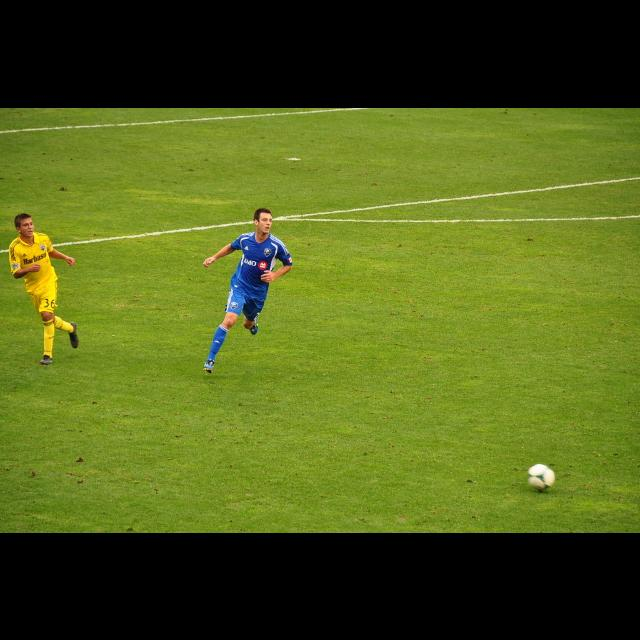Football: (528, 461, 554, 489)
